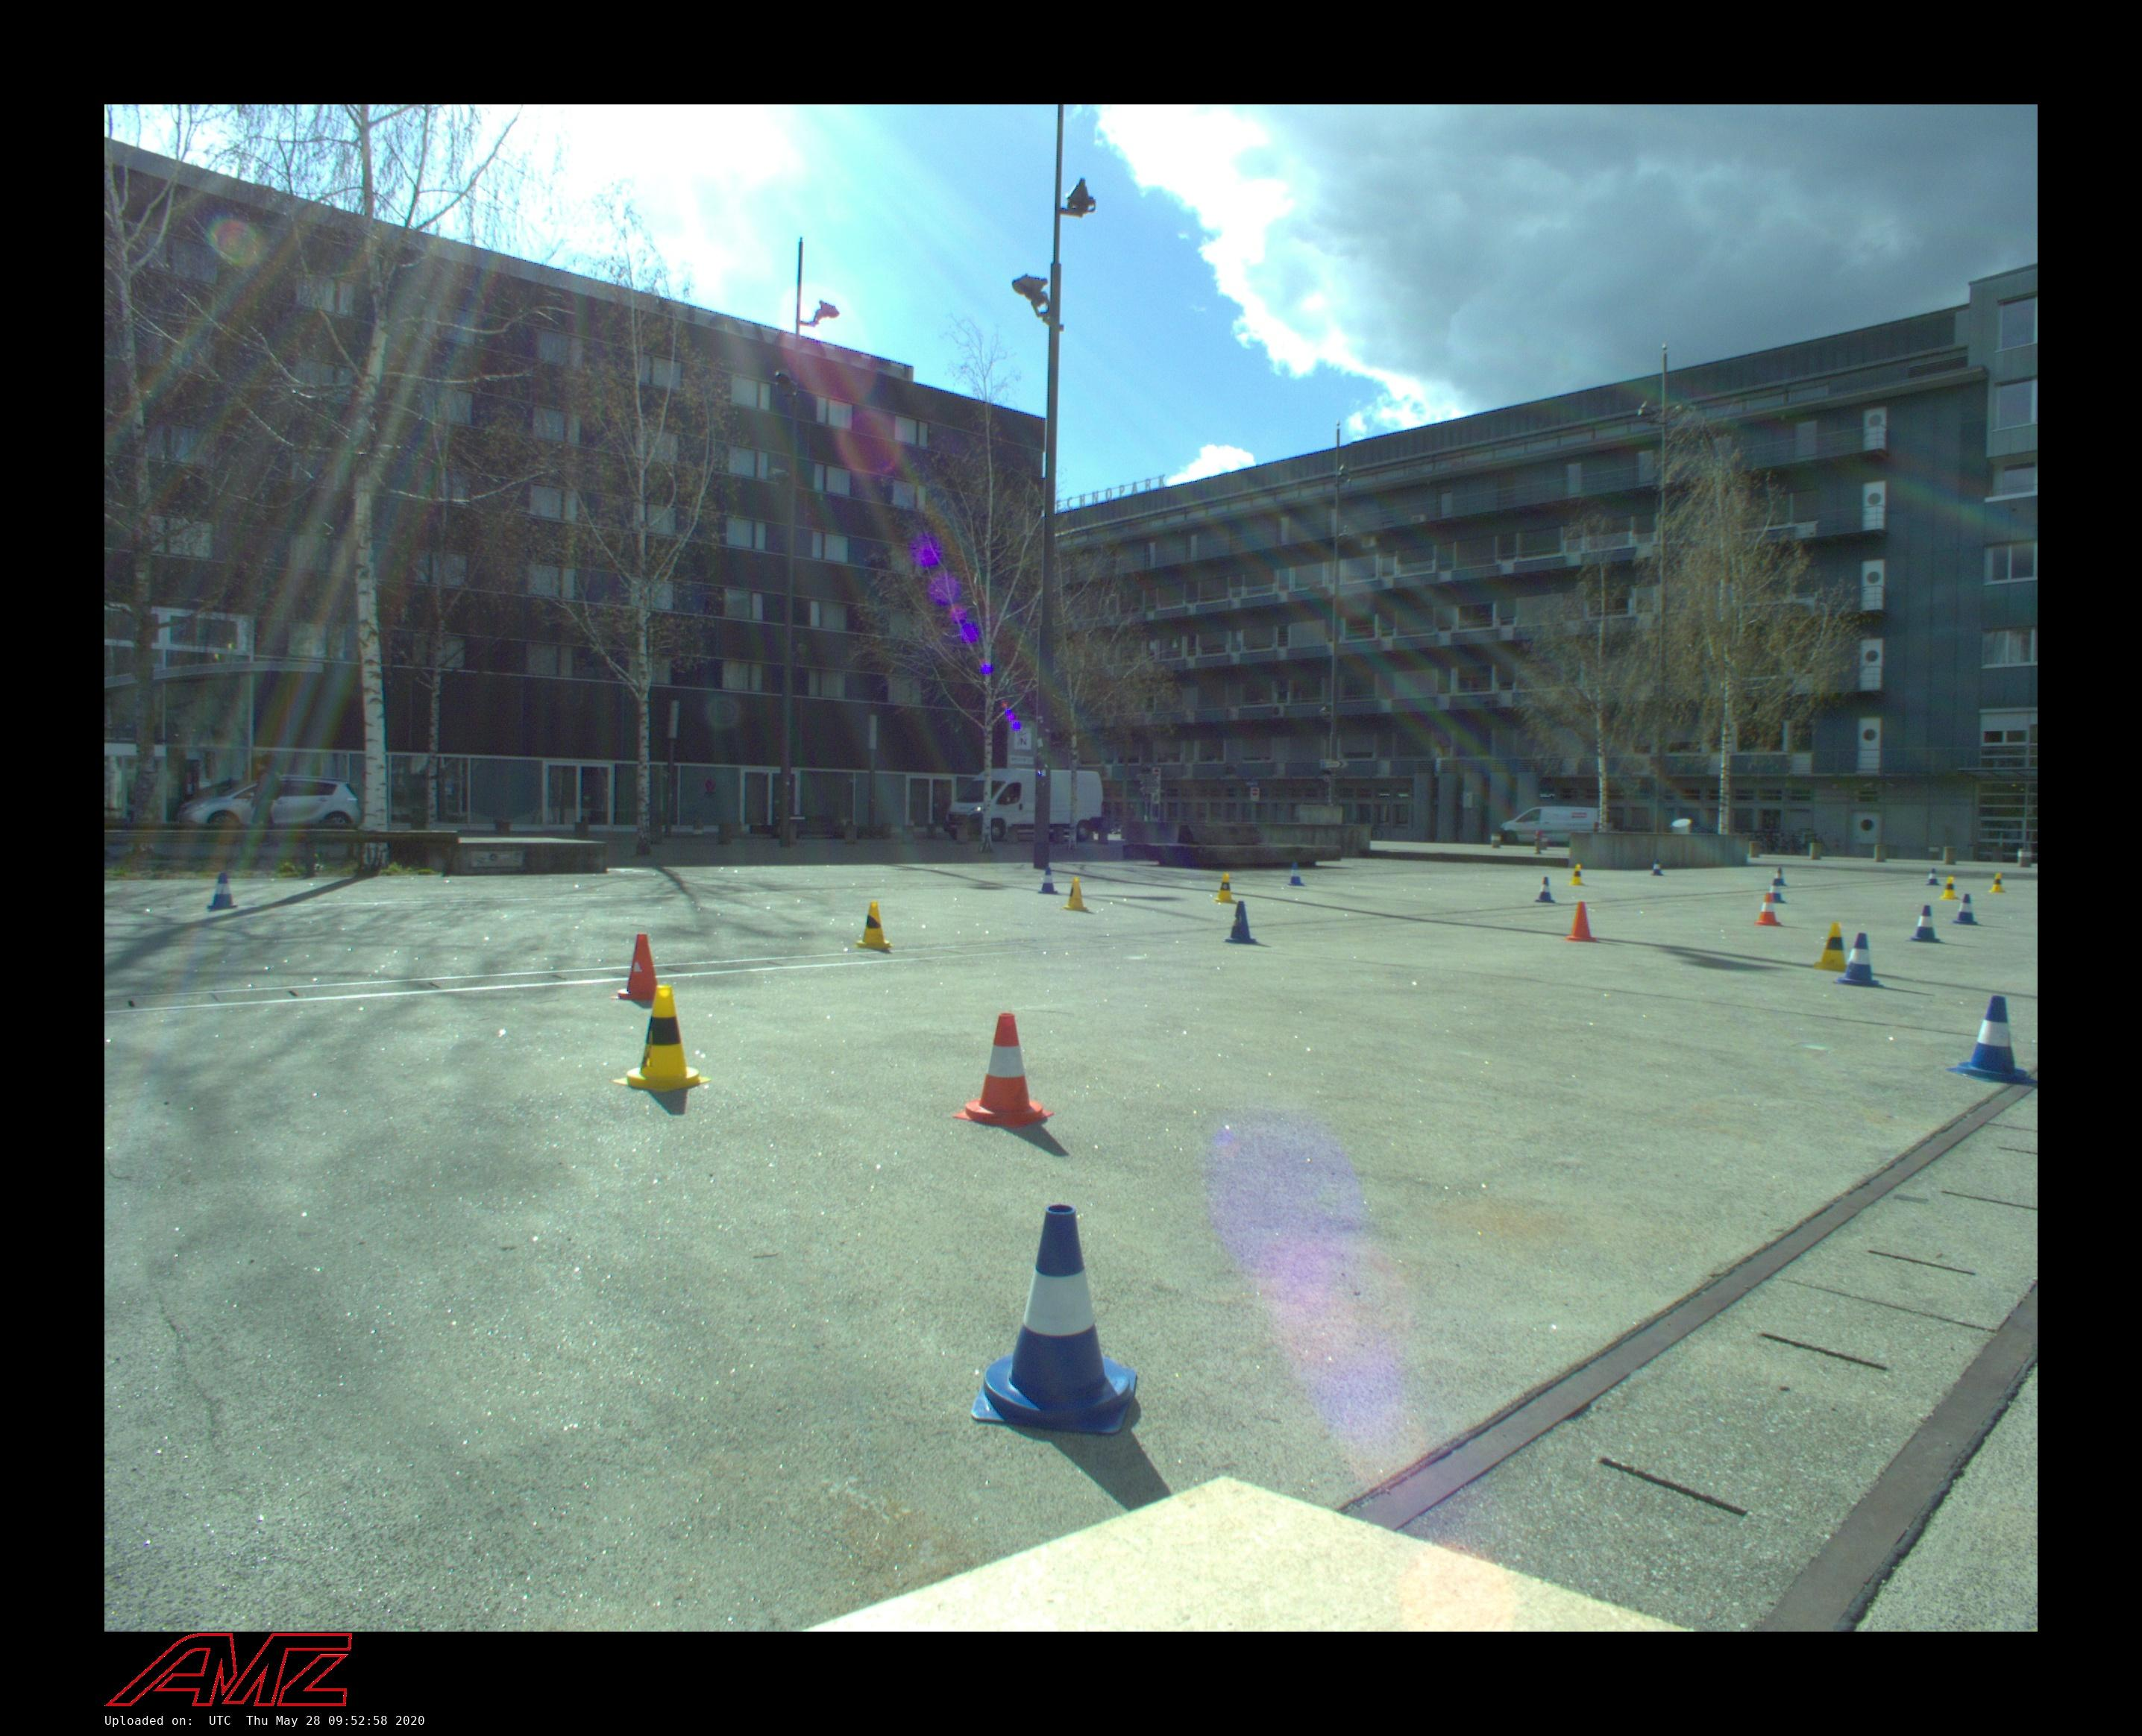blue_cone: (970, 1204, 1139, 1436), (1944, 995, 2037, 1084), (1833, 933, 1884, 988), (1907, 905, 1944, 943), (1225, 901, 1257, 944), (207, 872, 238, 909), (1952, 893, 1978, 925), (1038, 867, 1058, 894), (1536, 875, 1555, 902), (1287, 862, 1305, 886), (1770, 878, 1786, 902), (1926, 868, 1940, 885), (1652, 859, 1663, 875), (1774, 868, 1785, 885)
orange_cone: (952, 1013, 1054, 1129), (611, 933, 659, 1000), (1566, 902, 1597, 942), (1755, 893, 1780, 925)
yellow_cone: (613, 984, 711, 1095), (854, 901, 893, 952), (1813, 920, 1848, 973), (1064, 876, 1088, 910), (1214, 872, 1235, 904), (1940, 875, 1957, 900), (1989, 872, 2006, 893), (1569, 864, 1583, 886)
